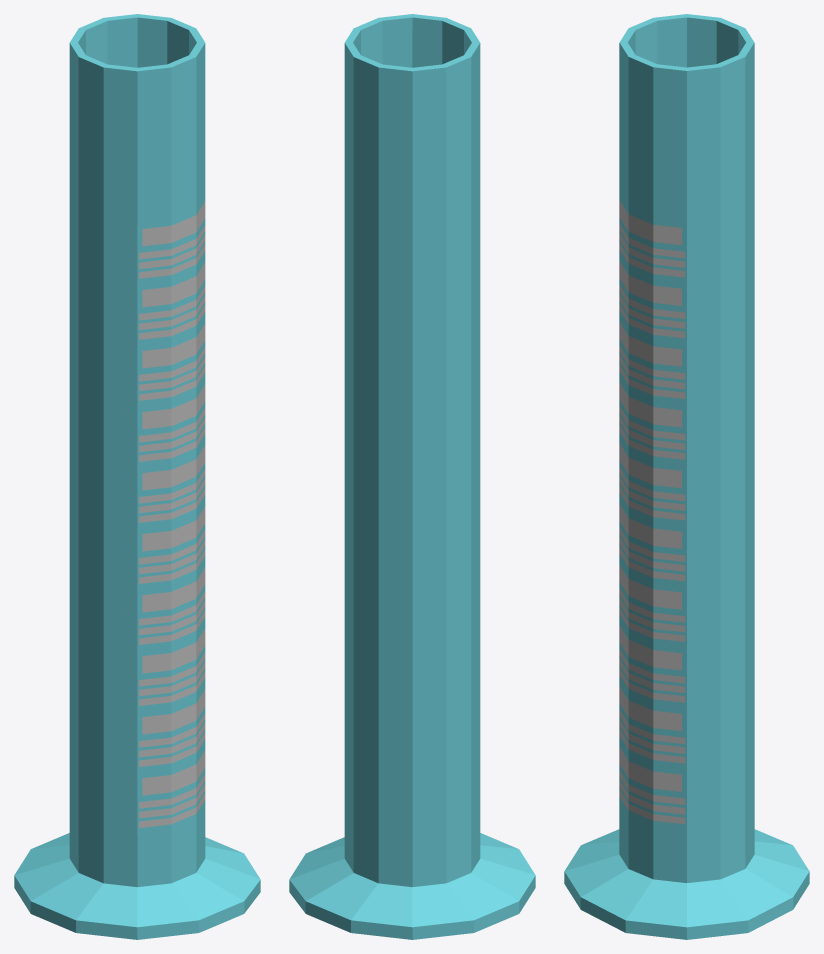
File: SM_Medicine_Glass_B.gltf
The picture shows the model from 3 angles, left to right: view 1: azimuth 30°, elevation 25°; view 2: azimuth 150°, elevation 25°; view 3: azimuth 270°, elevation 25°; orthographic projection.
Parts seen in each view (by area): view 1: SM_Medicine_Glass_B; view 2: SM_Medicine_Glass_B; view 3: SM_Medicine_Glass_B.
Boxes of the visible parts, x1=… form: SM_Medicine_Glass_B: x1=14, y1=14, x2=260, y2=939; SM_Medicine_Glass_B: x1=289, y1=14, x2=535, y2=939; SM_Medicine_Glass_B: x1=564, y1=14, x2=809, y2=939.
Bounding box in the file's own units: 0.0663 × 0.2523 × 0.0663.
